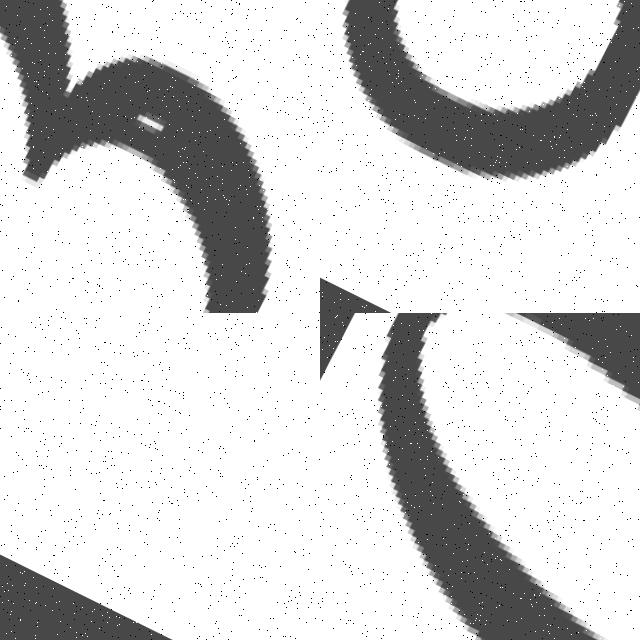0: (320, 313, 640, 640)
3: (0, 0, 320, 313)
9: (320, 0, 640, 313)
J: (0, 313, 320, 586)
